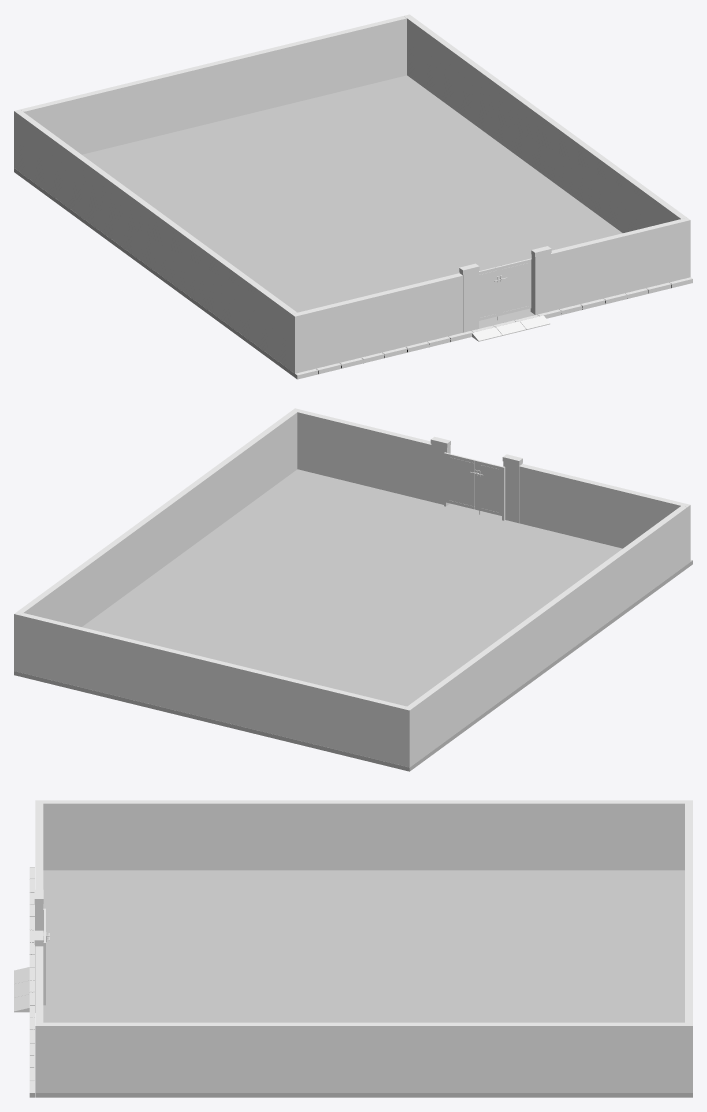
Rendered from Property_E2.fbx.
The picture shows the model from 3 angles, top to bottom: view 1: azimuth 30°, elevation 25°; view 2: azimuth 150°, elevation 25°; view 3: azimuth 270°, elevation 25°; orthographic projection. The views are drawn at different scales.
Parts seen in each view (by area): view 1: Ground.025, Wall.10002, Wall.10012, Wall.10019, Wall.10010, Door.376, Door.377, Step.014; view 2: Ground.025, Wall.10002, Wall.10012, Wall.10019, Wall.10010, Door.376, Door.377; view 3: Ground.025, Wall.10010, Wall.10019, Wall.10012, Wall.10002, Step.014.
Part boxes in pixels (box(x1,y1,x2,y2)): Ground.025: box(14, 75, 692, 379); Wall.10002: box(20, 16, 406, 154); Wall.10012: box(291, 217, 690, 373); Wall.10019: box(14, 109, 296, 370); Wall.10010: box(404, 14, 686, 232); Door.376: box(499, 258, 531, 315); Door.377: box(479, 266, 500, 320); Step.014: box(472, 315, 550, 341); Ground.025: box(14, 469, 692, 771); Wall.10002: box(20, 613, 406, 765); Wall.10012: box(292, 408, 690, 563); Wall.10019: box(403, 506, 687, 767); Wall.10010: box(14, 411, 297, 672); Door.376: box(446, 453, 478, 510); Door.377: box(477, 461, 502, 515); Ground.025: box(29, 867, 692, 1097); Wall.10010: box(43, 1022, 692, 1092); Wall.10019: box(43, 800, 692, 870); Wall.10012: box(34, 800, 45, 1092); Wall.10002: box(685, 803, 692, 1022); Step.014: box(14, 967, 29, 1012).
Size of the model in its own units: 1000 by 161 by 1270.
